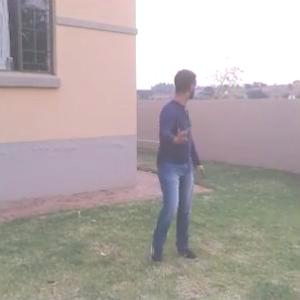takeoff-hand: (167, 120, 193, 146)
